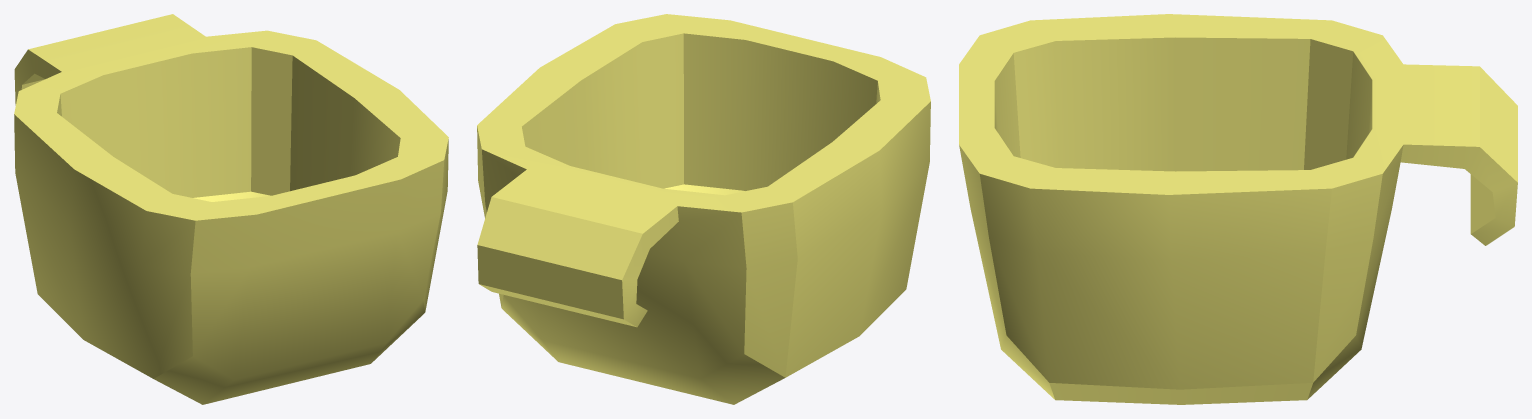
File: PlantPot_38.fbx
3 renders of one model, left to right at view 1: azimuth 30°, elevation 25°; view 2: azimuth 150°, elevation 25°; view 3: azimuth 270°, elevation 25°, orthographic. The views are drawn at different scales.
Parts seen in each view (by area): view 1: PlantPot_38; view 2: PlantPot_38; view 3: PlantPot_38.
Part boxes in pixels (<box>): PlantPot_38: <box>14,14,448,404</box>; PlantPot_38: <box>477,14,930,404</box>; PlantPot_38: <box>959,14,1517,404</box>.
Size of the model in its own units: 22.63 by 14.21 by 28.92.
